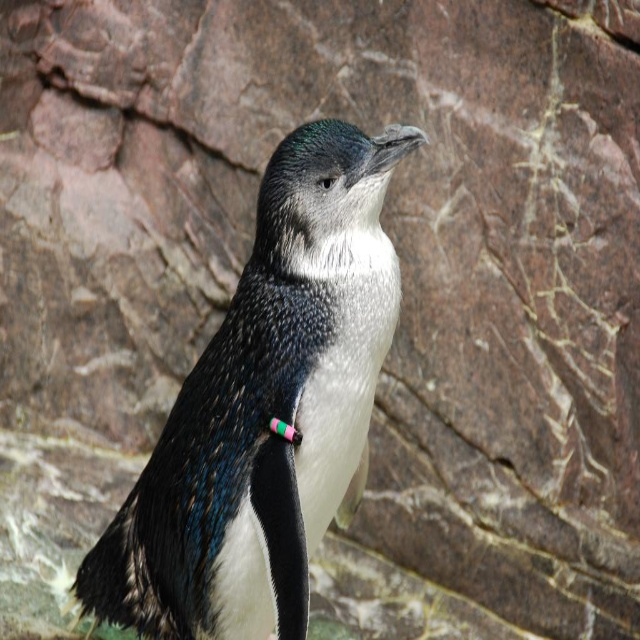Penguin: (45, 112, 428, 639)
